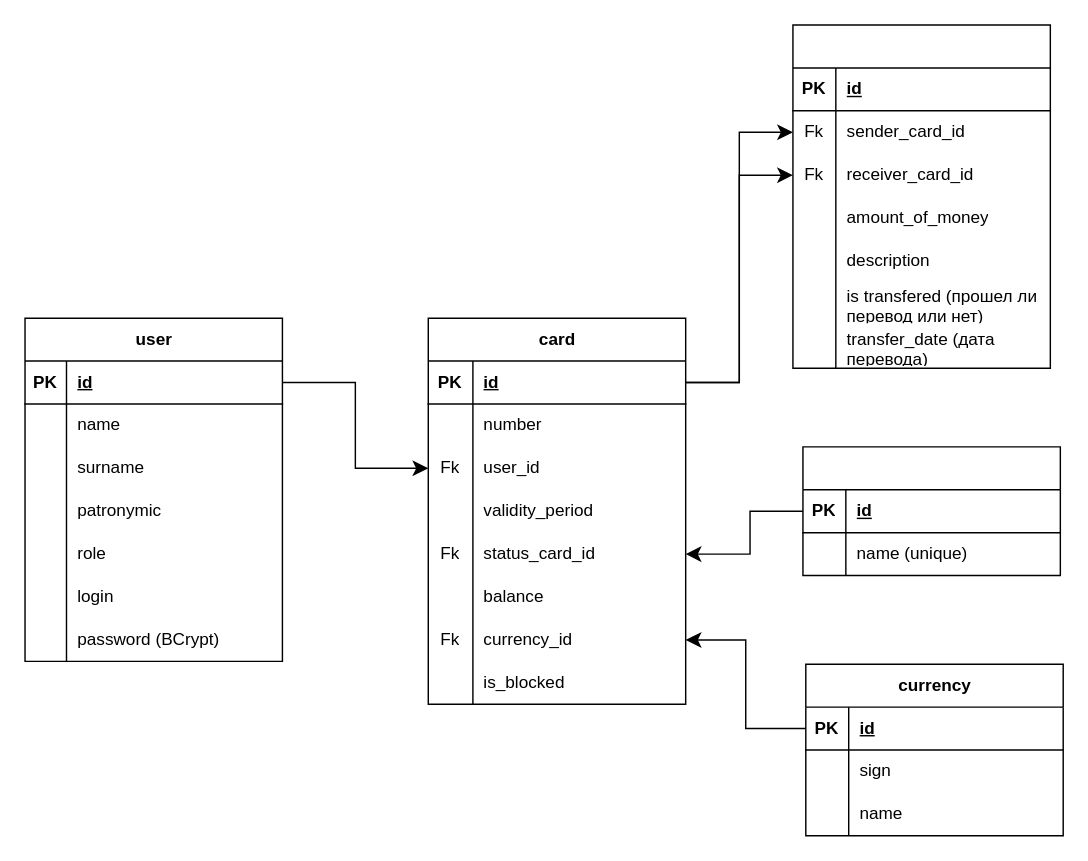
This 1088x861 diagram has some shape labels left out. The box of each missing label's shape, as (x1, y1, x2, y2) in pixels:
card_transfer: (792, 24, 1050, 368)
status_card: (802, 445, 1060, 576)
